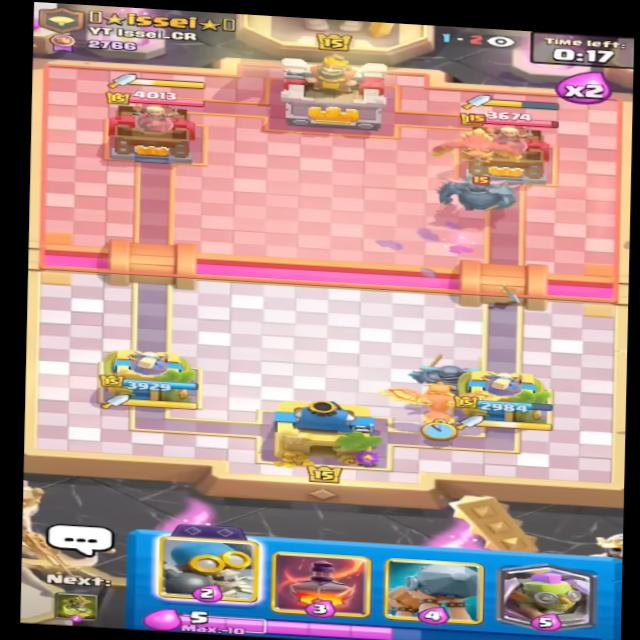pekka: (435, 166, 521, 217)
phoenix: (426, 116, 533, 171)
